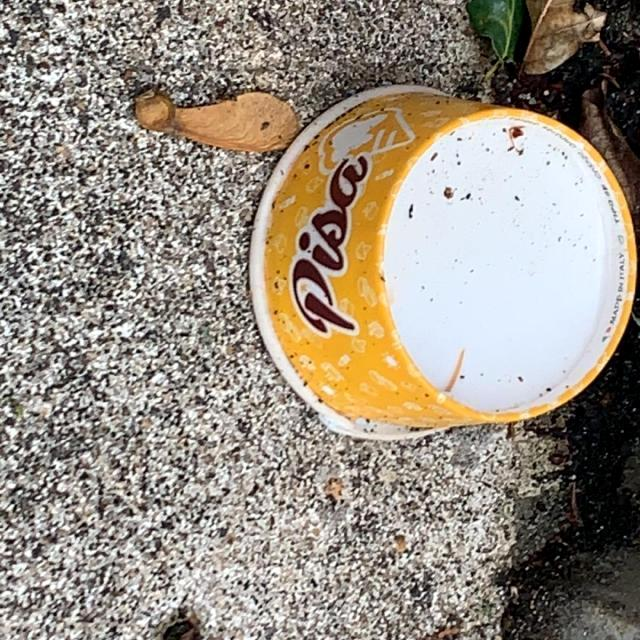Paper: (242, 78, 640, 448)
